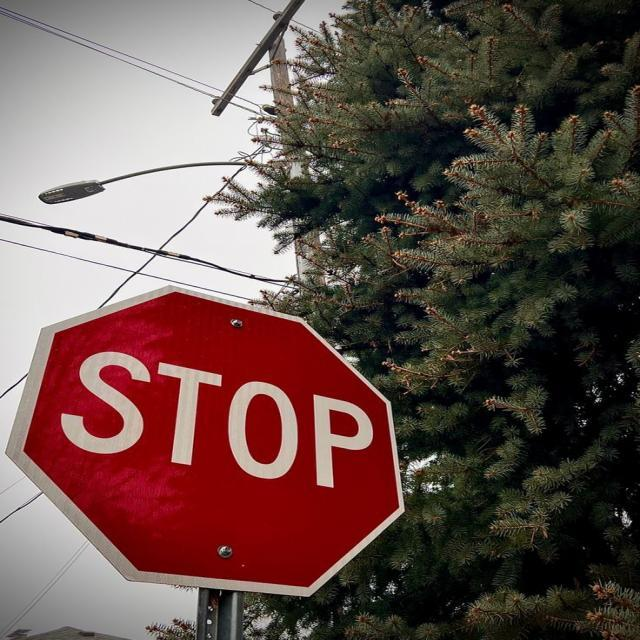stop: (4, 284, 405, 598)
